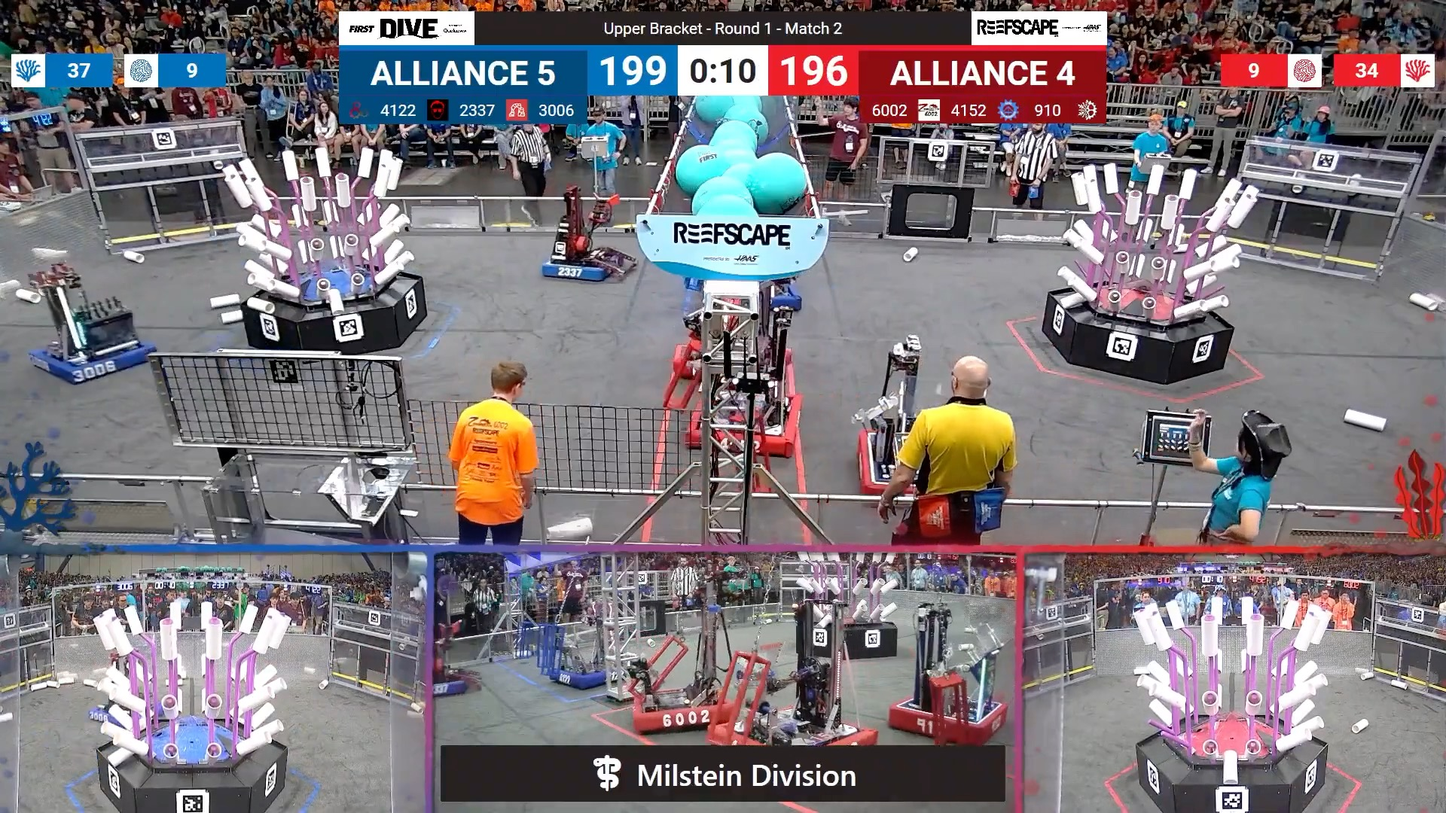bumpers: (29, 336, 165, 388), (850, 431, 953, 496), (886, 695, 1011, 745), (714, 714, 877, 749), (623, 690, 734, 727), (536, 245, 637, 285), (542, 662, 621, 689), (758, 282, 807, 315), (432, 671, 476, 700)
